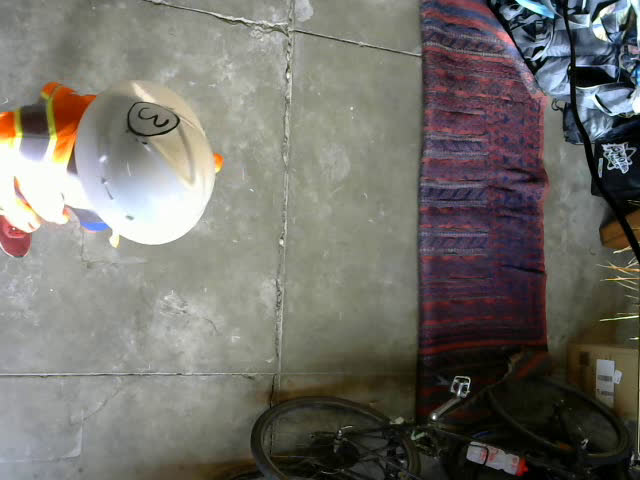three: (129, 101, 180, 138)
